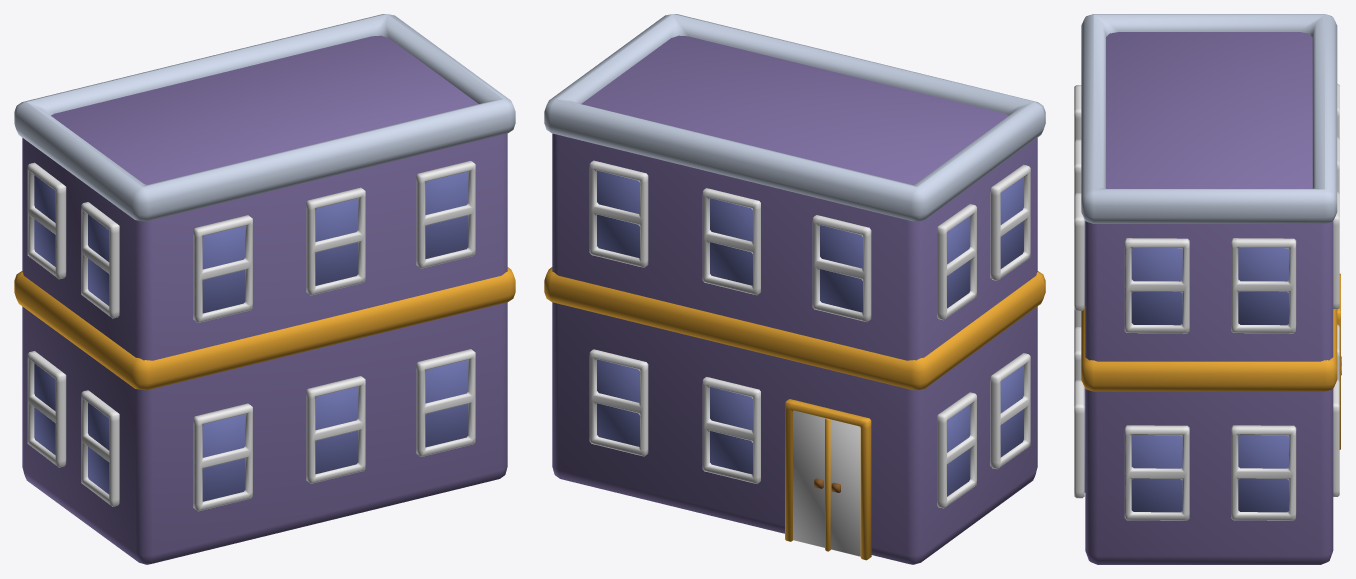
The model's file is Motel_without_Sign.fbx.
3 renders of one model, left to right at view 1: azimuth 30°, elevation 25°; view 2: azimuth 150°, elevation 25°; view 3: azimuth 270°, elevation 25°, orthographic.
Visible parts, largest first — view 1: Plane.260, Plane.261, Plane.286, Plane.818, Plane.296, Plane.814, Plane.292, Plane.816, Plane.298, Plane.815, Plane.819, Plane.294 (+11 smaller); view 2: Plane.260, Plane.261, Plane.286, Plane.280, Plane.281, Plane.265, Plane.283, Plane.263, Plane.285, Plane.267, Plane.266, Plane.284 (+12 smaller); view 3: Plane.260, Plane.261, Plane.286, Plane.273, Plane.277, Plane.275, Plane.279, Plane.272, Plane.274, Plane.278, Plane.276, Plane.814 (+7 smaller).
Part boxes in pixels (x1=…): Plane.260: x1=22, y1=35, x2=507, y2=564; Plane.261: x1=14, y1=14, x2=515, y2=221; Plane.286: x1=14, y1=267, x2=515, y2=390; Plane.818: x1=193, y1=403, x2=252, y2=511; Plane.296: x1=306, y1=187, x2=365, y2=295; Plane.814: x1=416, y1=349, x2=475, y2=456; Plane.292: x1=416, y1=161, x2=475, y2=268; Plane.816: x1=306, y1=376, x2=365, y2=483; Plane.298: x1=193, y1=215, x2=252, y2=322; Plane.815: x1=425, y1=360, x2=468, y2=447; Plane.819: x1=202, y1=414, x2=245, y2=501; Plane.294: x1=425, y1=171, x2=468, y2=258; Plane.260: x1=552, y1=35, x2=1037, y2=564; Plane.261: x1=544, y1=14, x2=1045, y2=221; Plane.286: x1=544, y1=267, x2=1045, y2=390; Plane.280: x1=793, y1=410, x2=860, y2=556; Plane.281: x1=785, y1=399, x2=871, y2=560; Plane.265: x1=710, y1=198, x2=752, y2=285; Plane.283: x1=710, y1=387, x2=752, y2=474; Plane.263: x1=820, y1=225, x2=862, y2=312; Plane.285: x1=597, y1=359, x2=639, y2=446; Plane.267: x1=597, y1=170, x2=639, y2=258; Plane.266: x1=589, y1=160, x2=648, y2=267; Plane.284: x1=589, y1=349, x2=648, y2=456; Plane.260: x1=1085, y1=32, x2=1333, y2=564; Plane.261: x1=1081, y1=14, x2=1337, y2=223; Plane.286: x1=1081, y1=305, x2=1337, y2=391; Plane.273: x1=1131, y1=435, x2=1182, y2=512; Plane.277: x1=1131, y1=248, x2=1182, y2=325; Plane.275: x1=1238, y1=435, x2=1288, y2=512; Plane.279: x1=1238, y1=248, x2=1288, y2=325; Plane.272: x1=1124, y1=425, x2=1189, y2=520; Plane.274: x1=1231, y1=425, x2=1296, y2=520; Plane.278: x1=1231, y1=238, x2=1296, y2=333; Plane.276: x1=1124, y1=238, x2=1189, y2=333; Plane.814: x1=1074, y1=380, x2=1084, y2=498.
Bounding box in the file's own units: 893 × 836 × 535.
